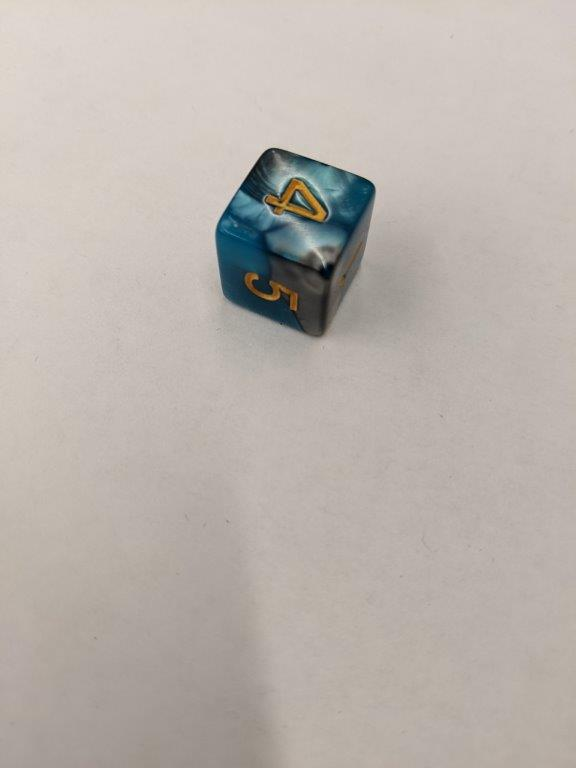d6-4: (216, 149, 377, 337)
